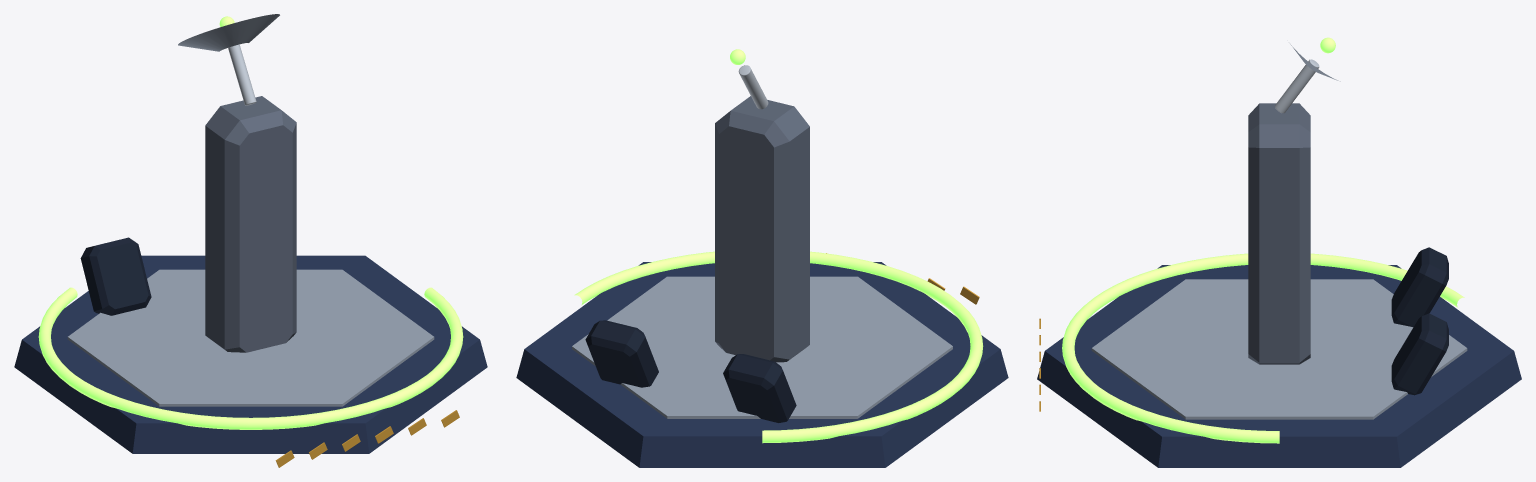
File: shared_controlpoint_capturing.glb
The picture shows the model from 3 angles, left to right: view 1: azimuth 30°, elevation 25°; view 2: azimuth 150°, elevation 25°; view 3: azimuth 270°, elevation 25°; orthographic projection. The views are drawn at different scales.
Parts seen in each view (by area): view 1: cp_pad_inlay, cp_pad, cp_pylon, cp_ring, cp_console-1, cp_dish_plate, cp_hazard, cp_dish_mast; view 2: cp_pad, cp_pad_inlay, cp_pylon, cp_ring, cp_console-1, cp_console1, cp_dish_mast; view 3: cp_pad_inlay, cp_pad, cp_pylon, cp_ring, cp_console1, cp_console-1, cp_dish_mast.
Boxes of the visible parts, box(x1,y1,x2,y2) form: cp_pad_inlay: box(67, 269, 434, 406); cp_pad: box(14, 255, 487, 453); cp_pylon: box(205, 96, 296, 352); cp_ring: box(38, 287, 463, 429); cp_console-1: box(80, 237, 151, 315); cp_dish_plate: box(178, 14, 279, 51); cp_hazard: box(275, 410, 459, 467); cp_dish_mast: box(228, 44, 256, 105); cp_pad: box(516, 262, 1008, 467); cp_pad_inlay: box(572, 276, 952, 418); cp_pylon: box(715, 96, 809, 362); cp_ring: box(574, 251, 983, 443); cp_console-1: box(723, 354, 796, 422); cp_console1: box(585, 320, 658, 387); cp_dish_mast: box(738, 65, 768, 109); cp_pad_inlay: box(1091, 279, 1467, 419); cp_pad: box(1037, 265, 1521, 467); cp_pylon: box(1248, 103, 1310, 364); cp_ring: box(1062, 253, 1464, 443); cp_console1: box(1391, 313, 1448, 395); cp_console-1: box(1391, 247, 1448, 327); cp_dish_mast: box(1275, 59, 1319, 113).
Size of the model in its own units: 2.78 by 2.52 by 3.1.
